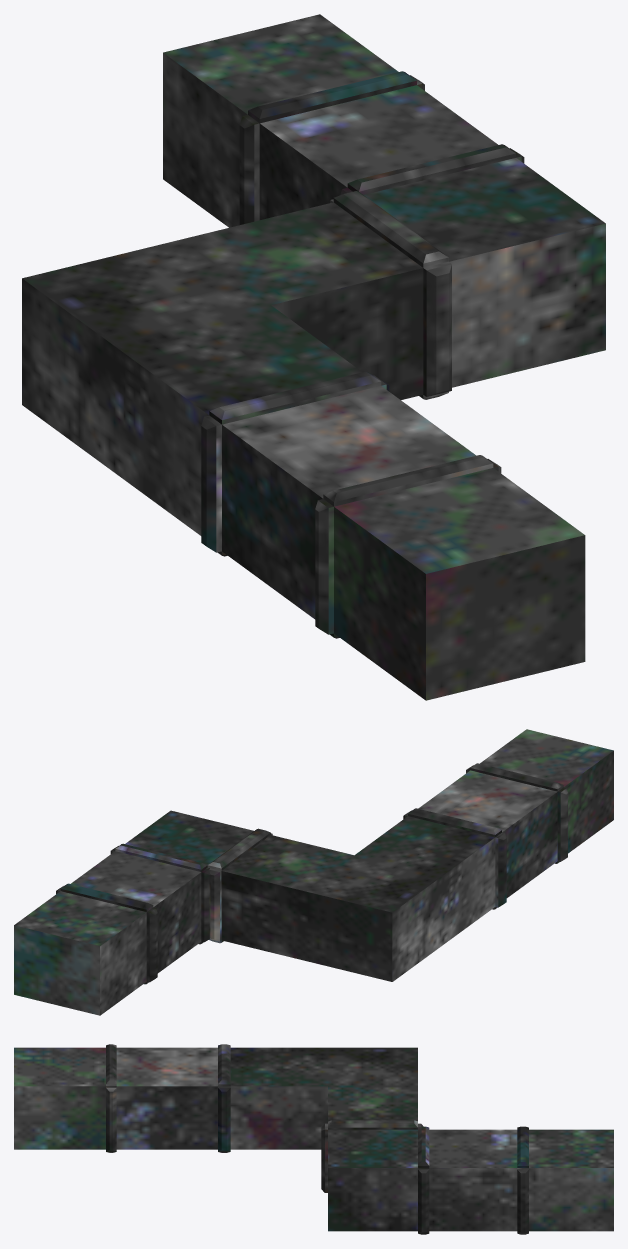
Rendered from vent.fbx.
3 views of the same model, one above another, from view 1: azimuth 30°, elevation 25°; view 2: azimuth 150°, elevation 25°; view 3: azimuth 270°, elevation 25° (orthographic). The views are drawn at different scales.
Parts seen in each view (by area): view 1: vent; view 2: vent; view 3: vent.
Boxes of the visible parts, x1=… form: vent: x1=22, y1=14, x2=605, y2=700; vent: x1=14, y1=729, x2=613, y2=1015; vent: x1=14, y1=1044, x2=613, y2=1234.
Bounding box in the file's own units: 650 × 175 × 1305.
